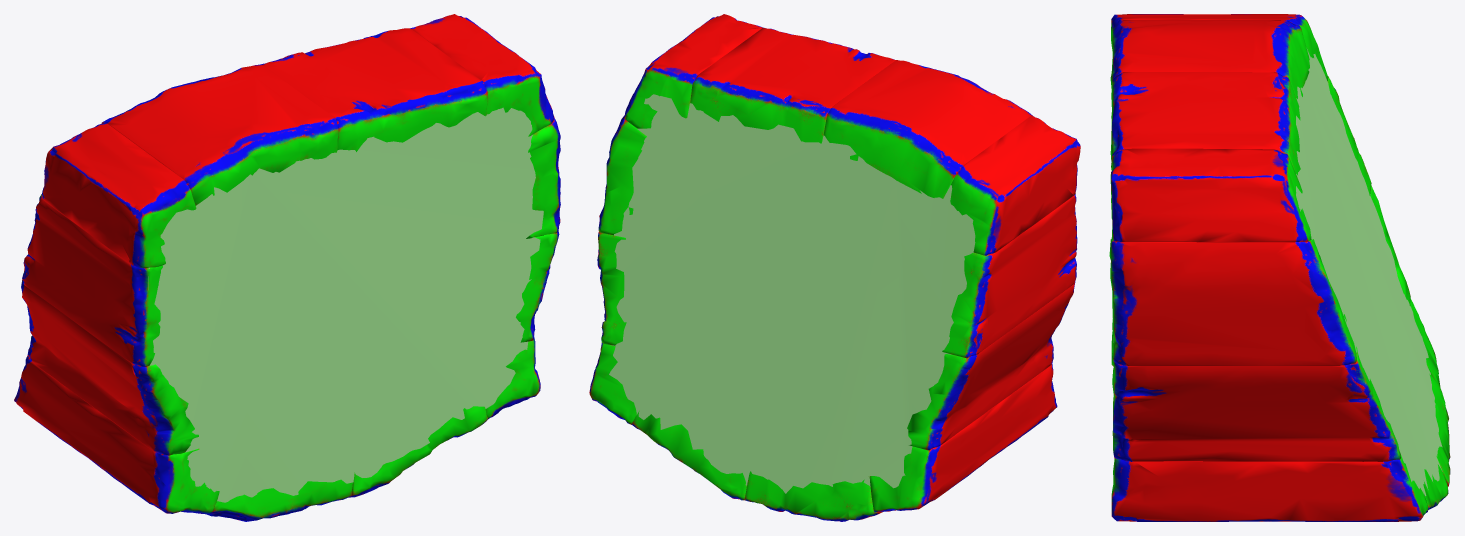
File: SM_ground_M_A.FBX
The picture shows the model from 3 angles, left to right: view 1: azimuth 30°, elevation 25°; view 2: azimuth 150°, elevation 25°; view 3: azimuth 270°, elevation 25°; orthographic projection. The views are drawn at different scales.
Visible parts, largest first — view 1: Object001; view 2: Object001; view 3: Object001.
Part boxes in pixels (<box>): Object001: <box>14,14,560,521</box>; Object001: <box>589,14,1080,521</box>; Object001: <box>1109,14,1450,521</box>.
Size of the model in its own units: 4697 by 4047 by 3031.
Materials: 2 (1 with a texture image).
